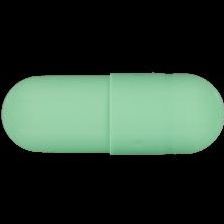50090-0052: (0, 0, 224, 224)
